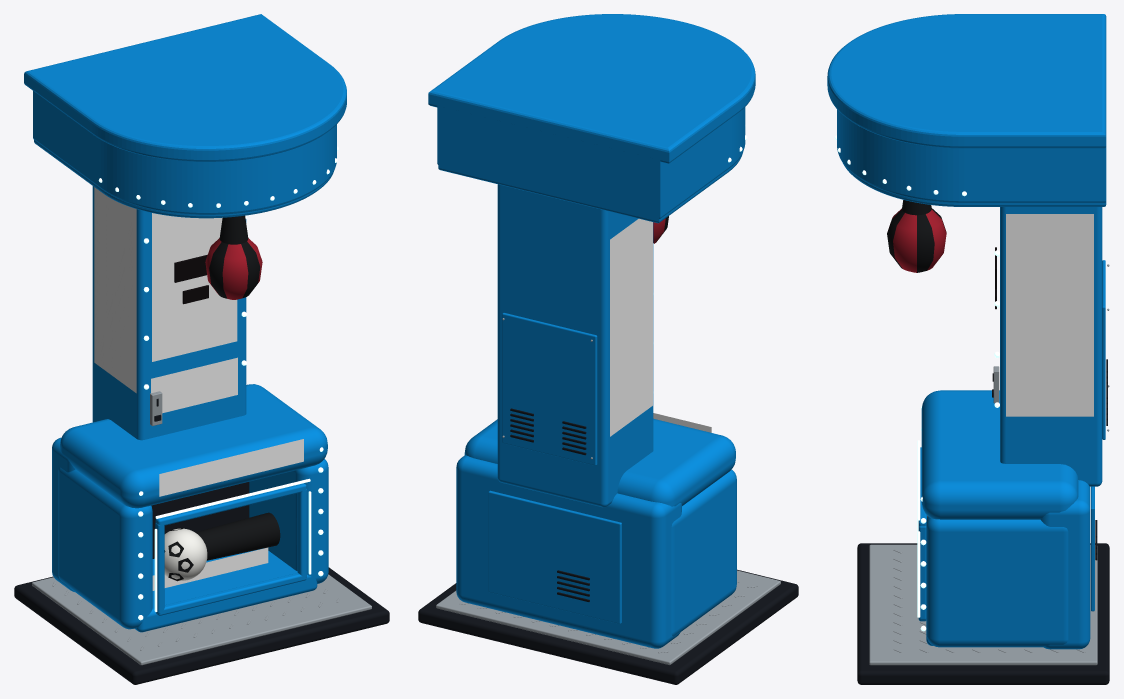
File: double-strike-demo.glb
3 views of the same model, side by side, from view 1: azimuth 30°, elevation 25°; view 2: azimuth 150°, elevation 25°; view 3: azimuth 270°, elevation 25° (orthographic). The views are drawn at different scales.
Visible parts, largest first — view 1: body_top (×3), body_lower_top, body_lower_left, body_column, diamond_plate, decal_score_panel, metal_platform, decal_left_side, body_lower_bottom, body_lower_right, recess_rim (×4), decal_lower_front (+11 smaller); view 2: body_top (×3), body_column, body_lower_back, lower_service_door, rear_door, decal_left_side, metal_platform, body_lower_left, body_lower_top, diamond_plate; view 3: body_top (×3), body_lower_right, decal_right_side, body_lower_top, diamond_plate, body_column, metal_platform, body_lower_back, boxing_bag, boxing_bag_panel, rear_door, recess_rim (+1 smaller).
Boxes of the visible parts, <box> form: body_top (×3): <box>24,14,346,218</box>; body_lower_top: <box>60,384,327,508</box>; body_lower_left: <box>58,467,152,629</box>; body_column: <box>92,186,246,440</box>; diamond_plate: <box>32,574,371,665</box>; decal_score_panel: <box>152,213,237,361</box>; metal_platform: <box>14,567,389,684</box>; decal_left_side: <box>94,187,136,393</box>; body_lower_bottom: <box>135,548,317,632</box>; body_lower_right: <box>249,459,328,583</box>; recess_rim (×4): <box>155,483,306,615</box>; decal_lower_front: <box>159,439,303,496</box>; body_top (×3): <box>428,14,755,223</box>; body_column: <box>497,184,653,507</box>; body_lower_back: <box>456,455,681,648</box>; lower_service_door: <box>488,490,621,623</box>; rear_door: <box>502,313,597,465</box>; decal_left_side: <box>610,218,652,436</box>; metal_platform: <box>418,569,798,684</box>; body_lower_left: <box>671,469,736,636</box>; body_lower_top: <box>464,418,735,506</box>; diamond_plate: <box>436,570,780,664</box>; body_top (×3): <box>827,14,1106,206</box>; body_lower_right: <box>926,516,1068,647</box>; decal_right_side: <box>1006,214,1093,416</box>; body_lower_top: <box>921,390,1078,519</box>; diamond_plate: <box>869,544,1097,665</box>; body_column: <box>1000,207,1102,486</box>; metal_platform: <box>857,543,1109,684</box>; body_lower_back: <box>1040,480,1090,649</box>; boxing_bag: <box>892,208,946,272</box>; boxing_bag_panel: <box>917,214,934,272</box>; rear_door: <box>1102,260,1105,439</box>; recess_rim: <box>918,526,926,619</box>.
Bounding box in the file's own units: 1.3 × 2.54 × 1.19.
